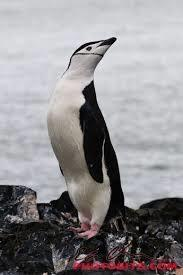chinstrap: (26, 28, 149, 239)
